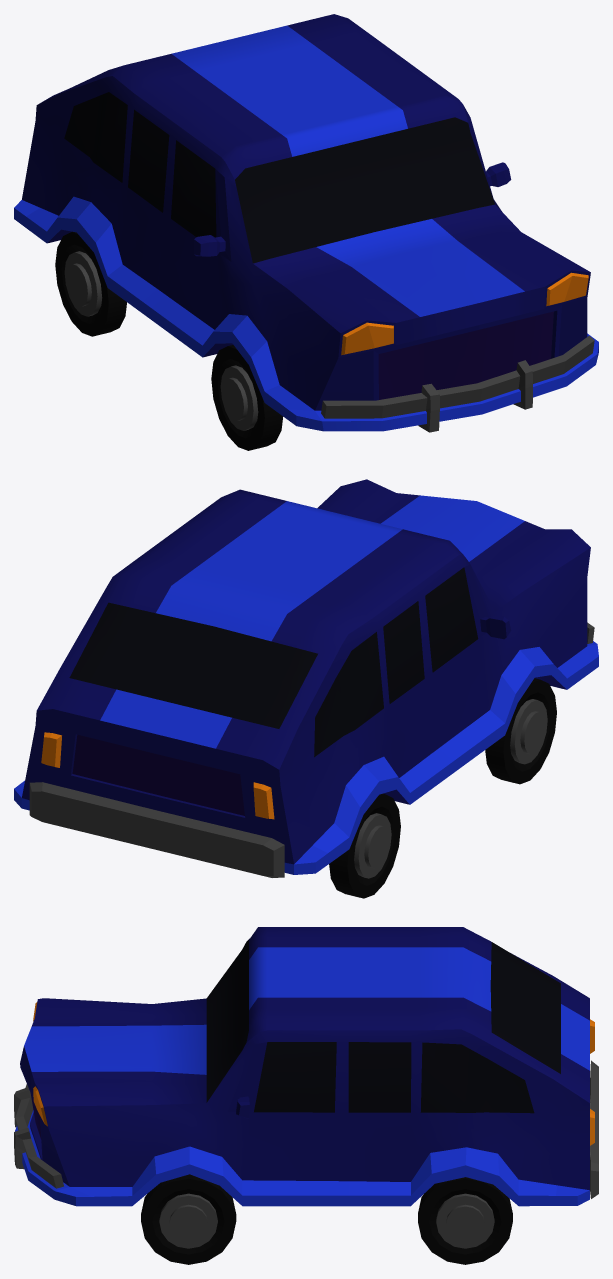
Rendered from car1.FBX.
3 views of the same model, one above another, from view 1: azimuth 30°, elevation 25°; view 2: azimuth 150°, elevation 25°; view 3: azimuth 270°, elevation 25° (orthographic). The views are drawn at different scales.
Parts seen in each view (by area): view 1: Box002, Cylinder009, Cylinder012; view 2: Box002, Cylinder009, Cylinder012; view 3: Box002, Cylinder011, Cylinder010.
Boxes of the visible parts, x1,y1,x2,y2 form: Box002: [14, 14, 598, 432]; Cylinder009: [211, 345, 283, 450]; Cylinder012: [55, 231, 126, 336]; Box002: [14, 479, 598, 877]; Cylinder009: [485, 678, 556, 784]; Cylinder012: [329, 793, 400, 898]; Box002: [14, 927, 598, 1206]; Cylinder011: [141, 1174, 236, 1264]; Cylinder010: [418, 1177, 512, 1264].
Size of the model in its own units: 36.77 by 29.04 by 67.19.
